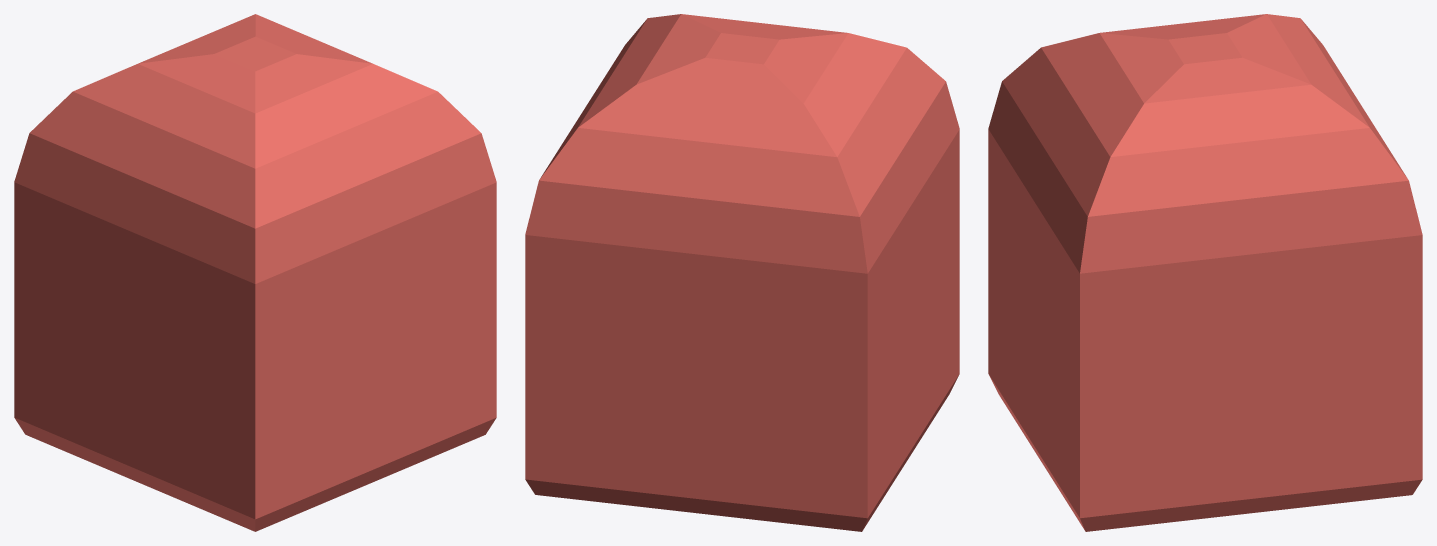
Rendered from SM_EN_LargeBush_01.fbx.
The picture shows the model from 3 angles, left to right: view 1: azimuth 30°, elevation 25°; view 2: azimuth 150°, elevation 25°; view 3: azimuth 270°, elevation 25°; orthographic projection. The views are drawn at different scales.
Parts seen in each view (by area): view 1: SM_EN_LargeBush_01; view 2: SM_EN_LargeBush_01; view 3: SM_EN_LargeBush_01.
Part boxes in pixels (x1,y1,x2,y2): SM_EN_LargeBush_01: [14, 14, 496, 531]; SM_EN_LargeBush_01: [525, 14, 959, 531]; SM_EN_LargeBush_01: [988, 14, 1422, 531].
Size of the model in its own units: 262 by 262 by 269.
